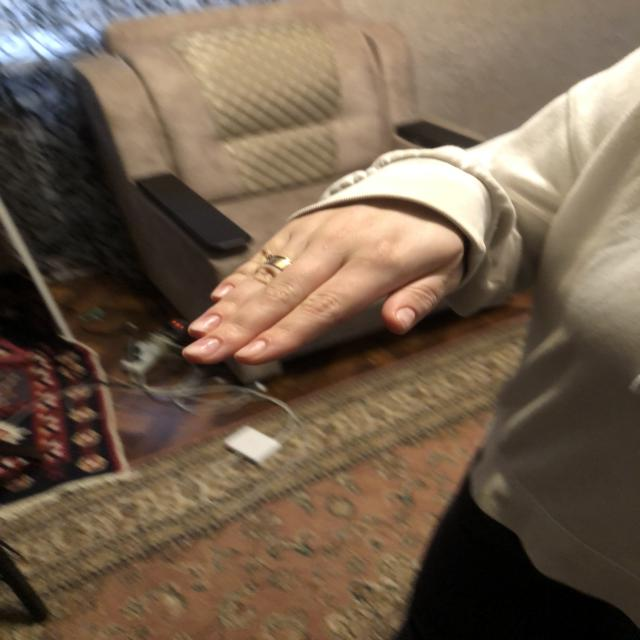paper: (186, 206, 464, 364)
